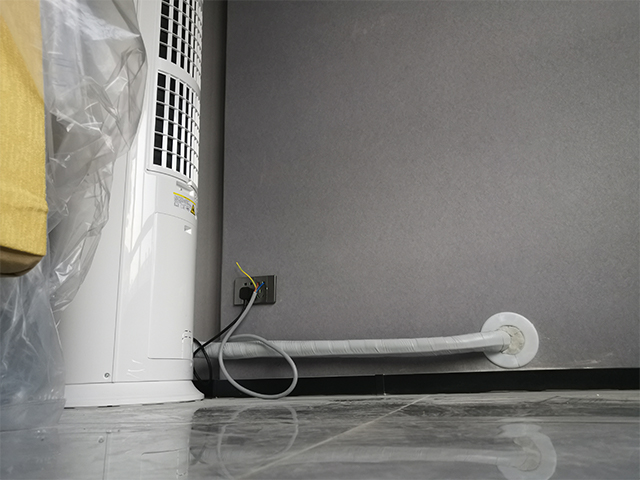wire: (191, 260, 300, 401)
